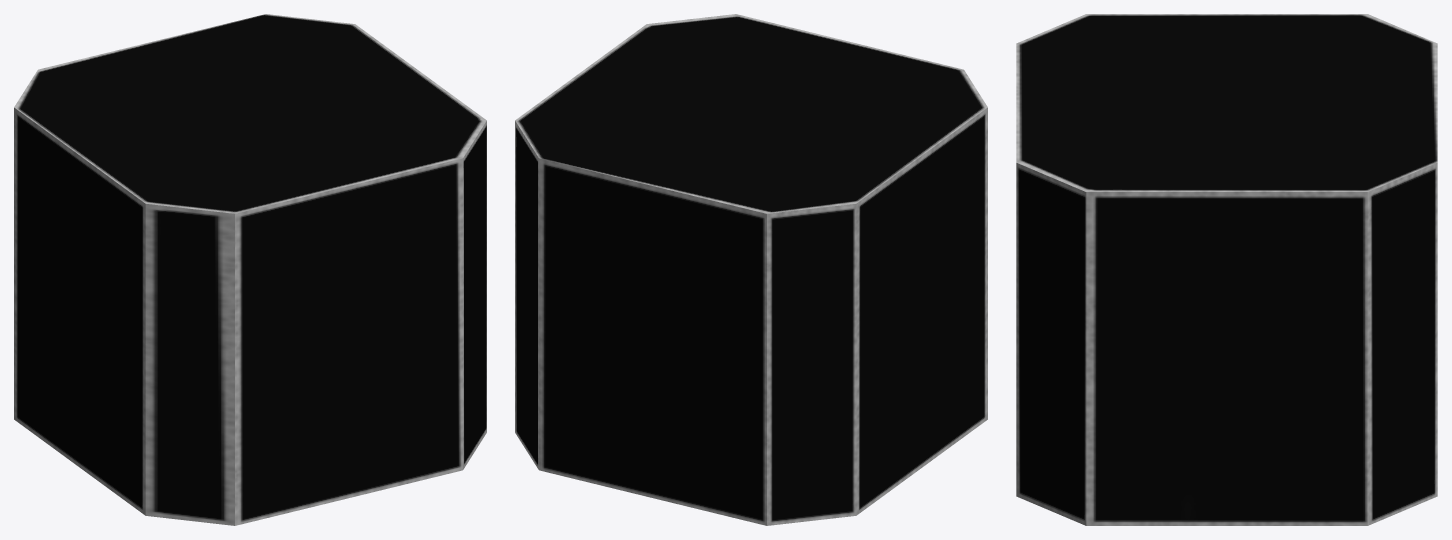
File: wall2.glb
3 views of the same model, side by side, from view 1: azimuth 30°, elevation 25°; view 2: azimuth 150°, elevation 25°; view 3: azimuth 270°, elevation 25° (orthographic). The views are drawn at different scales.
Parts seen in each view (by area): view 1: roundcube; view 2: roundcube; view 3: roundcube.
Part boxes in pixels (x1,y1,x2,y2): roundcube: (14,14,486,525); roundcube: (515,14,987,525); roundcube: (1016,14,1437,525).
Bounding box in the file's own units: 3 × 2.62 × 3.
1 material, 1 textured.
